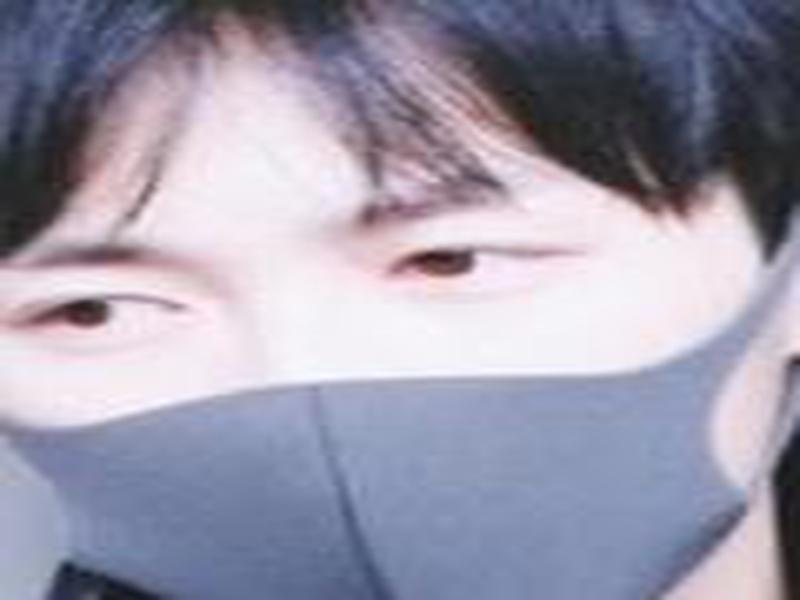with_mask: (1, 1, 791, 600)
